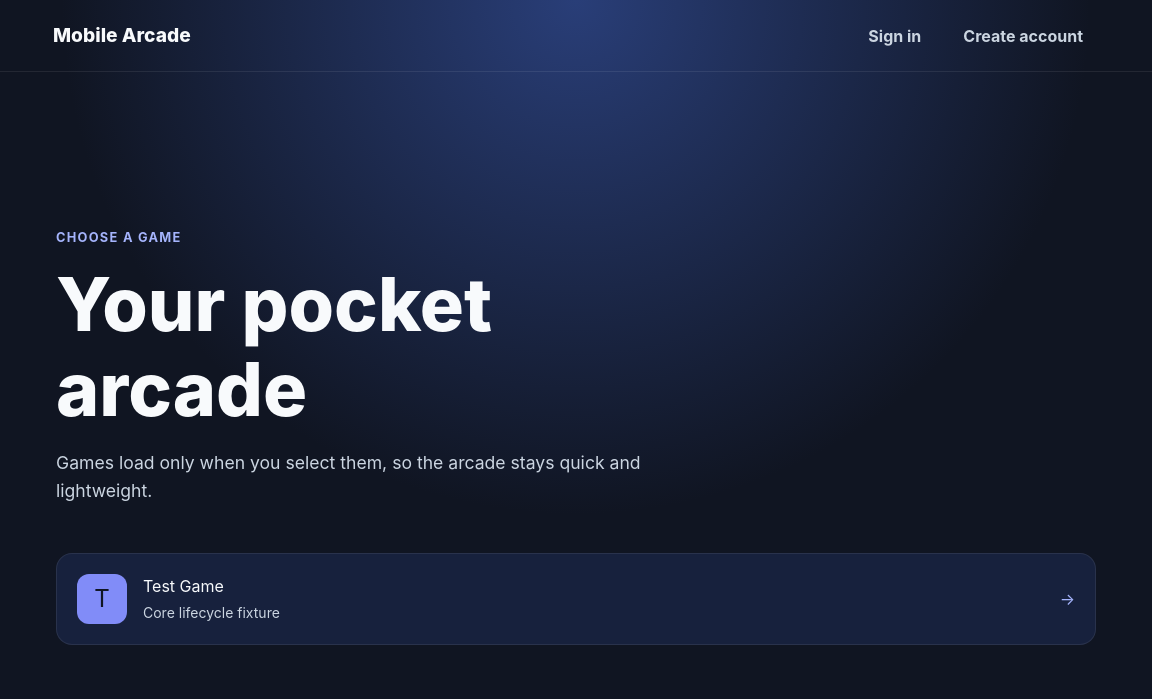
Test: ArcadeApp logout behavior › signs an authenticated user out and restores guest actions
Click the button "Sign in": (895, 36) [851, 14, 938, 58]
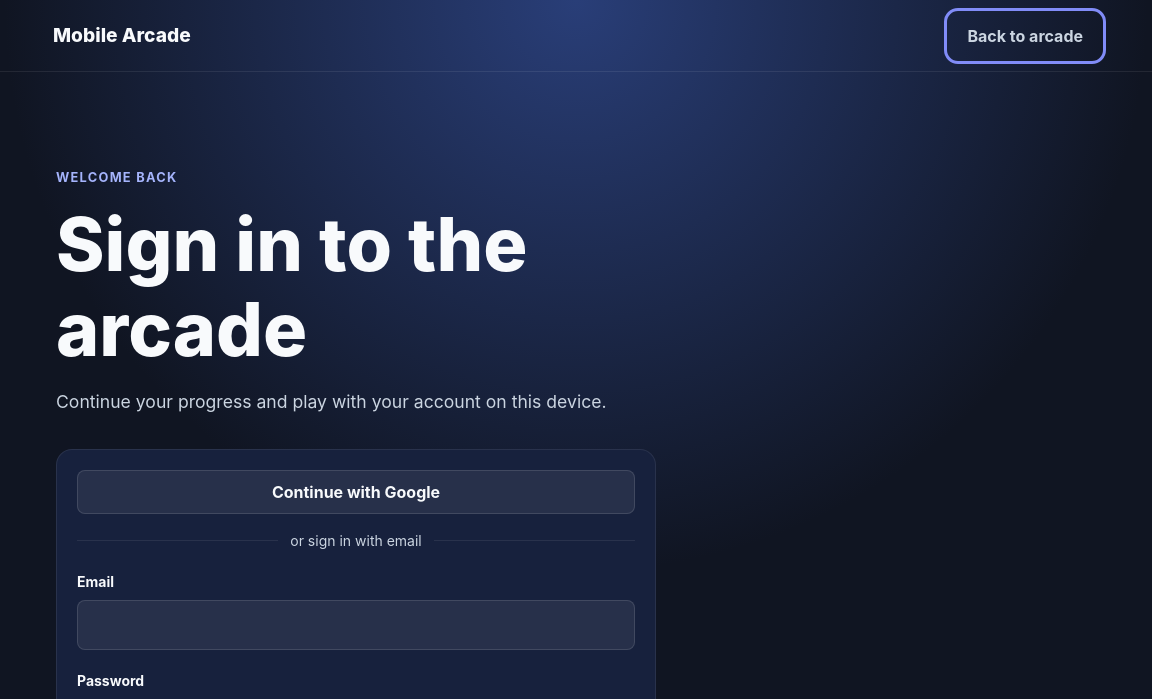
In the field labelled "Email": (356, 625) [77, 600, 635, 650], type "player@example.com"
(page scrolled)
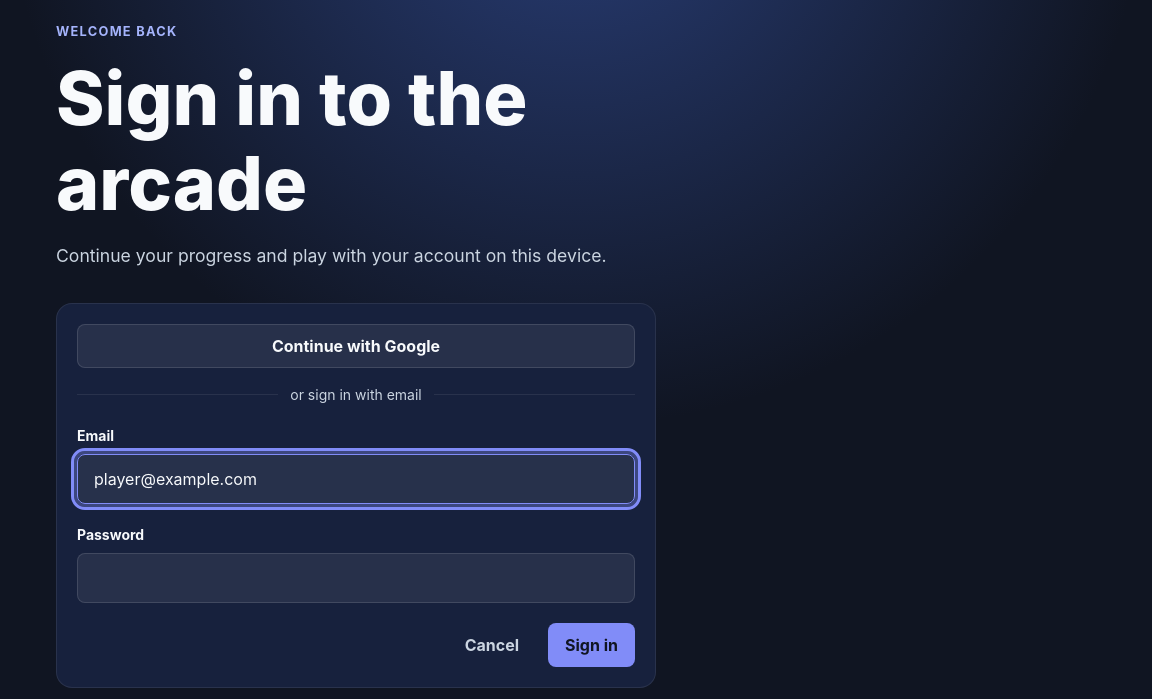
In the password field labelled "Password": (356, 578) [77, 553, 635, 603], type "safe-password"
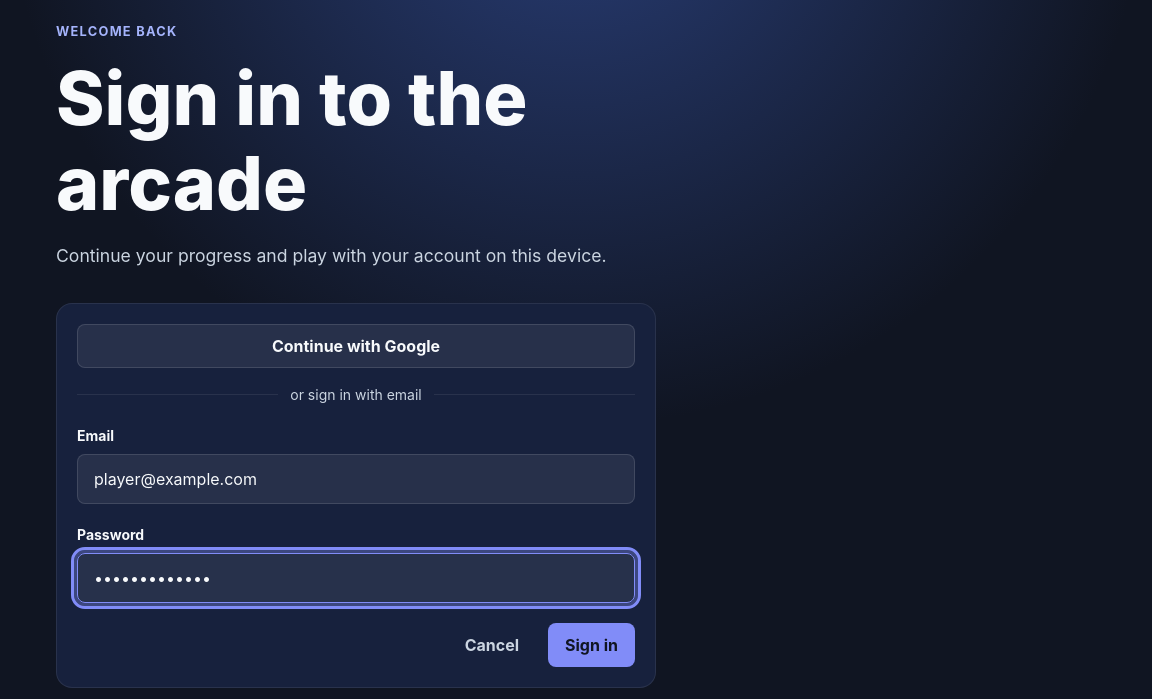
Click the button "Sign in": (592, 645) [548, 623, 635, 667]
(page scrolled)
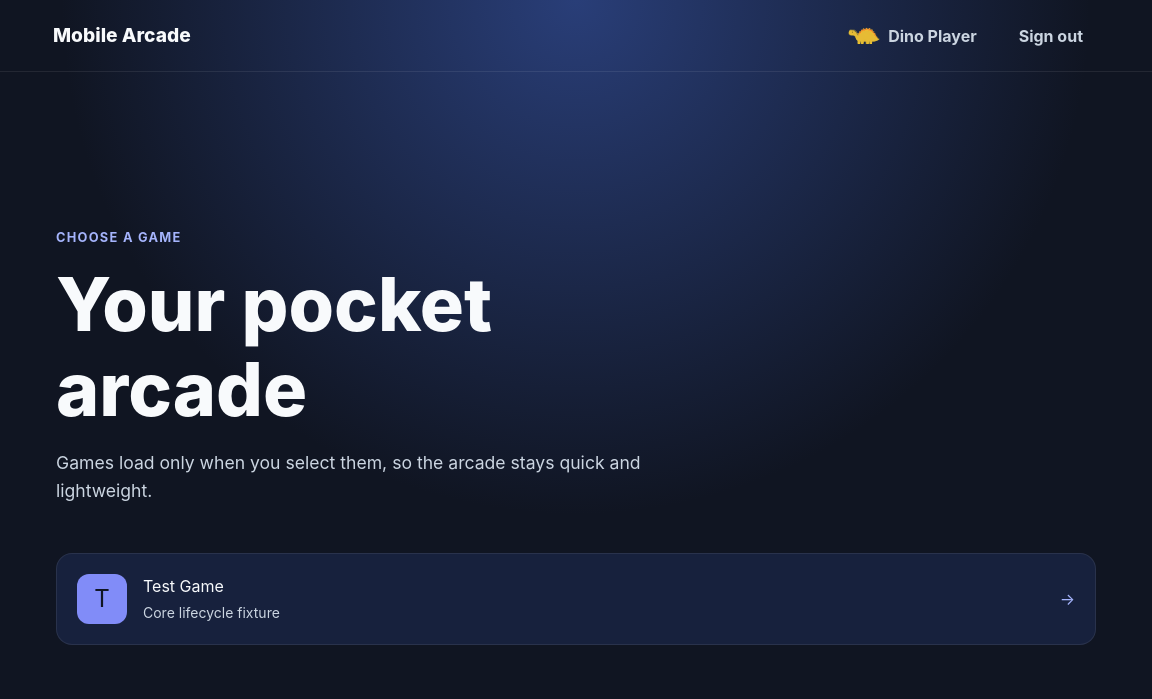
Click the button "Sign out": (1051, 36) [1002, 14, 1100, 58]
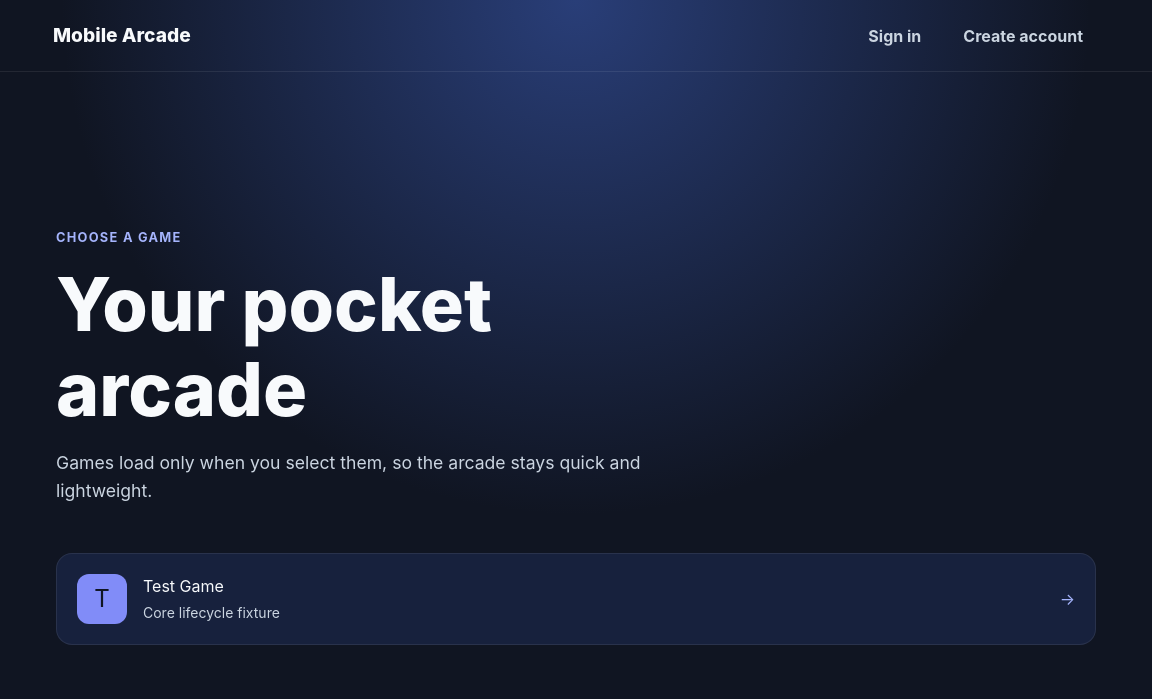
Now the button "Sign in" is shown, box [851, 14, 938, 58]
